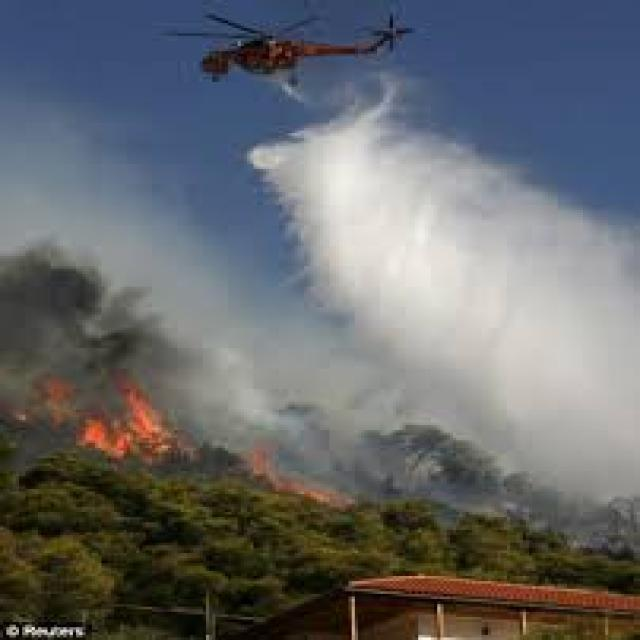Fire: (21, 340, 187, 466), (240, 434, 346, 509)
